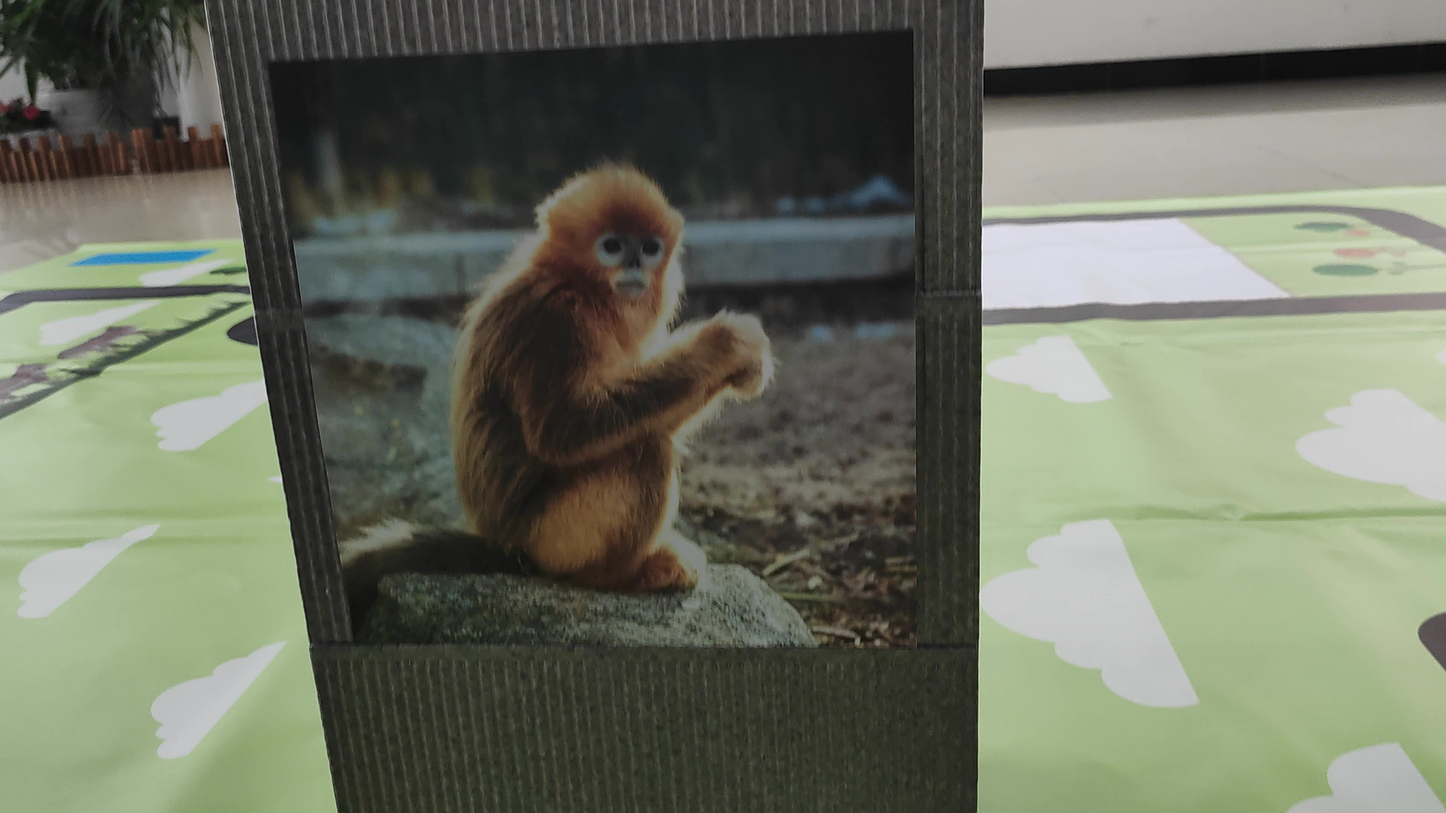monkey: (380, 112, 817, 604)
